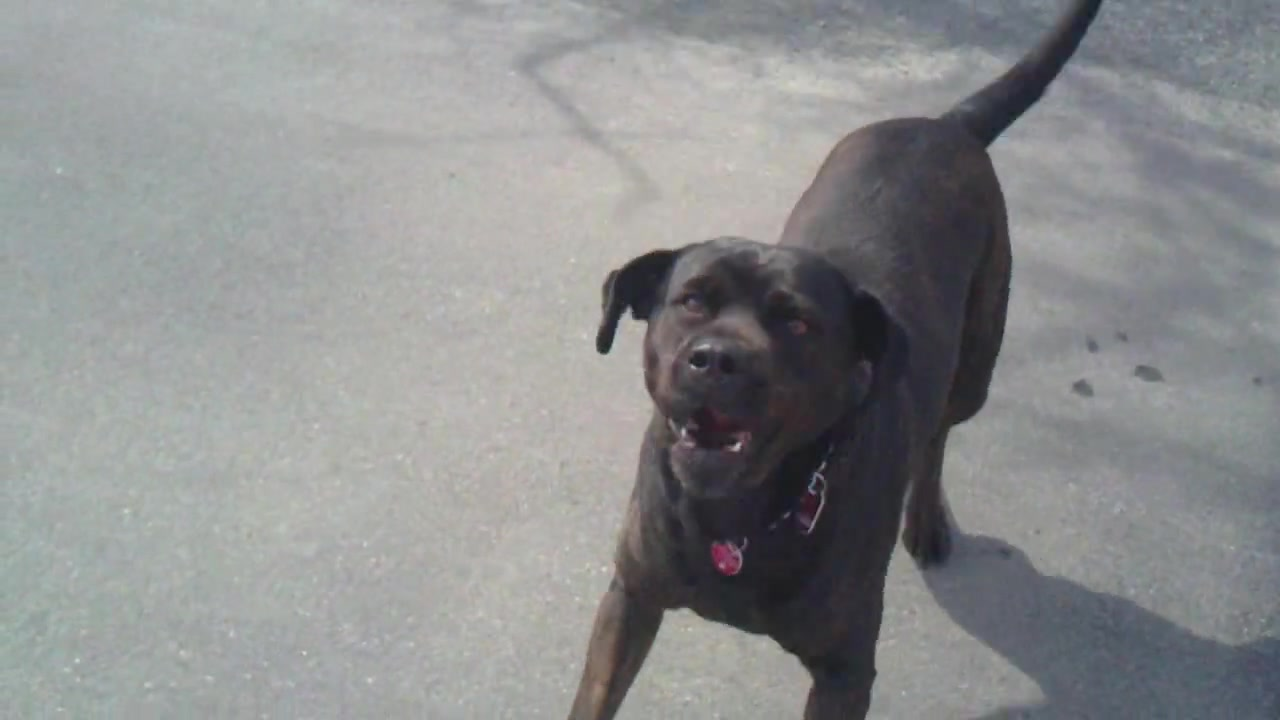dog: (570, 3, 1110, 720)
